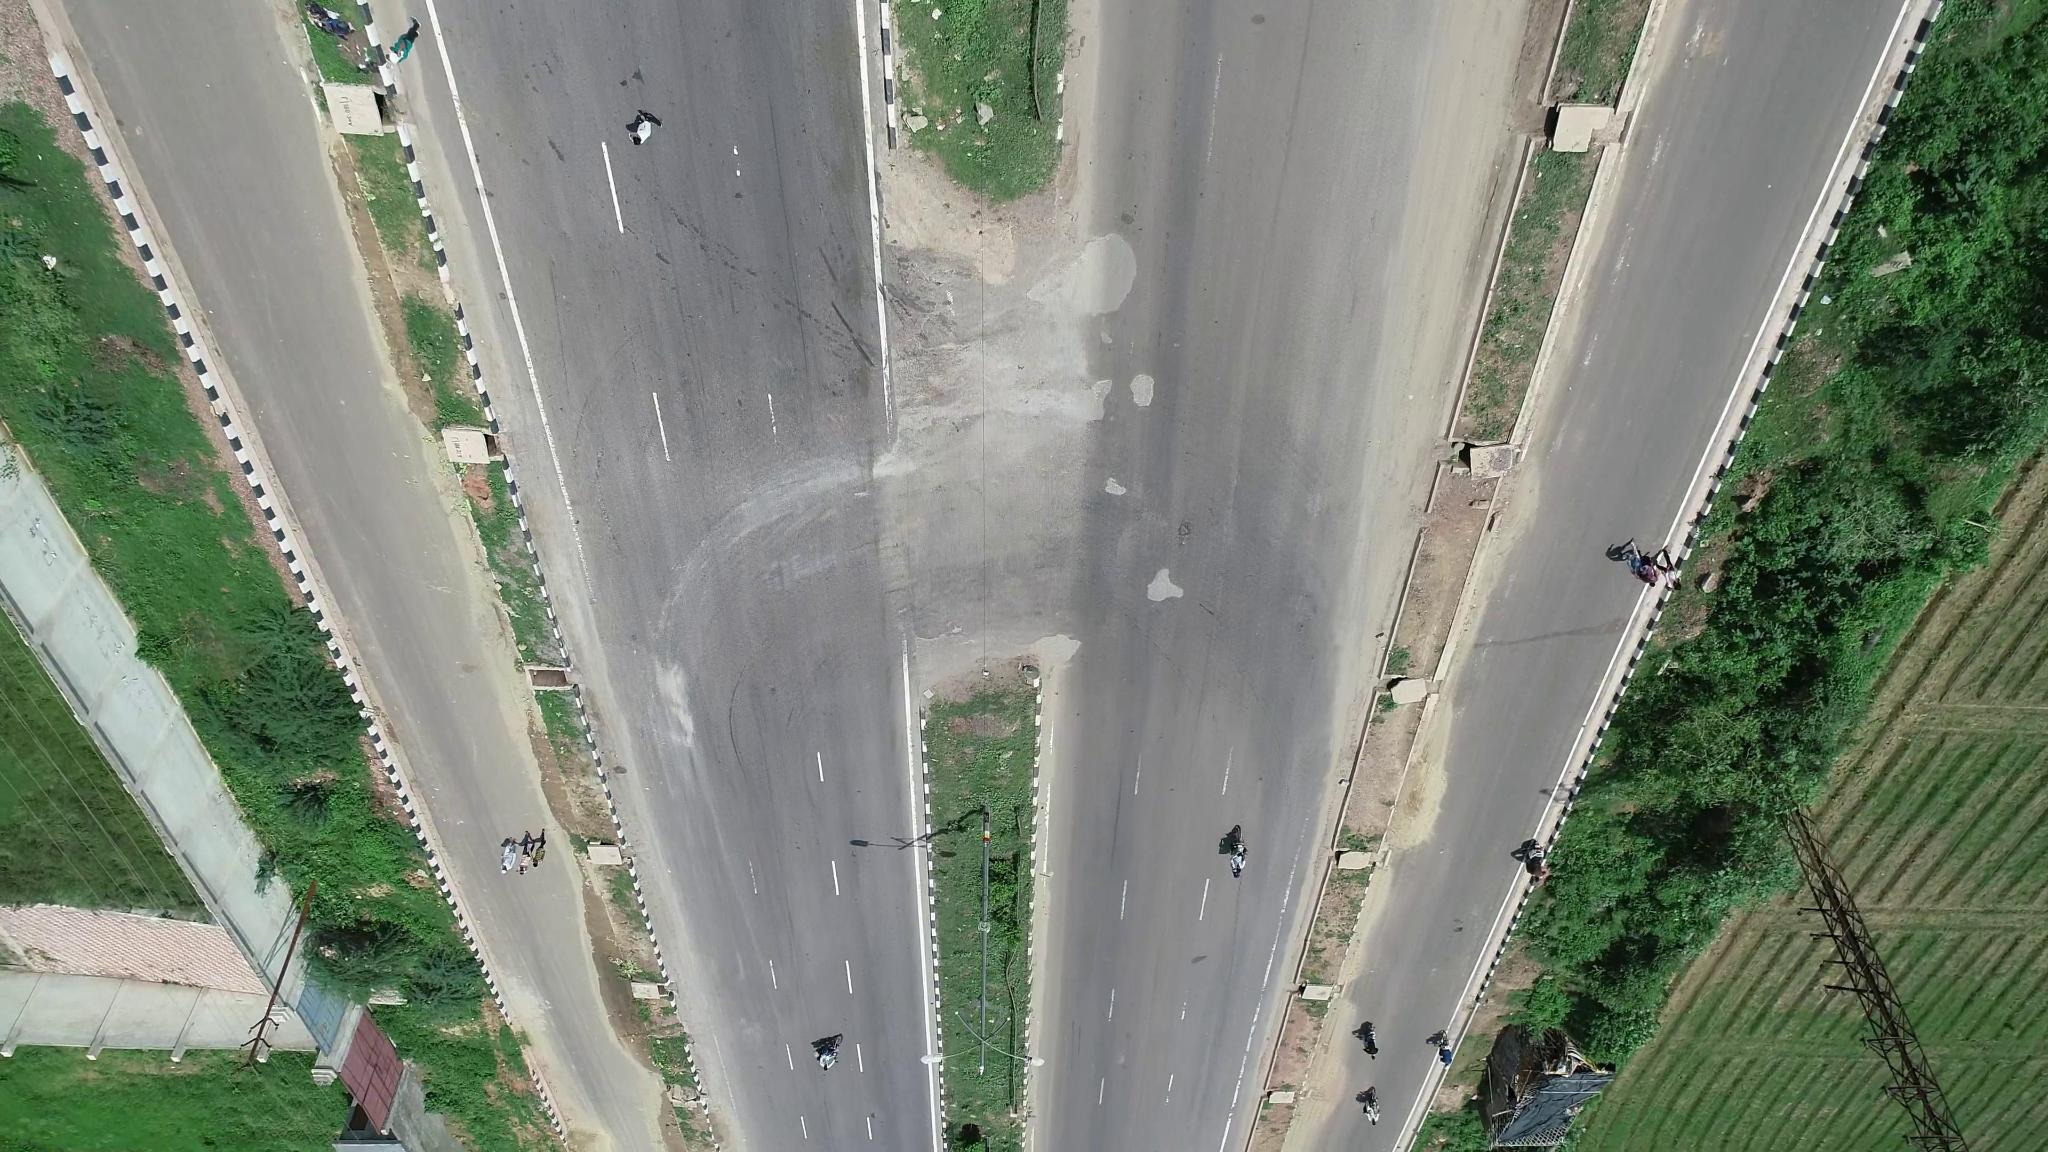Potholes: (1151, 495, 1212, 570)
